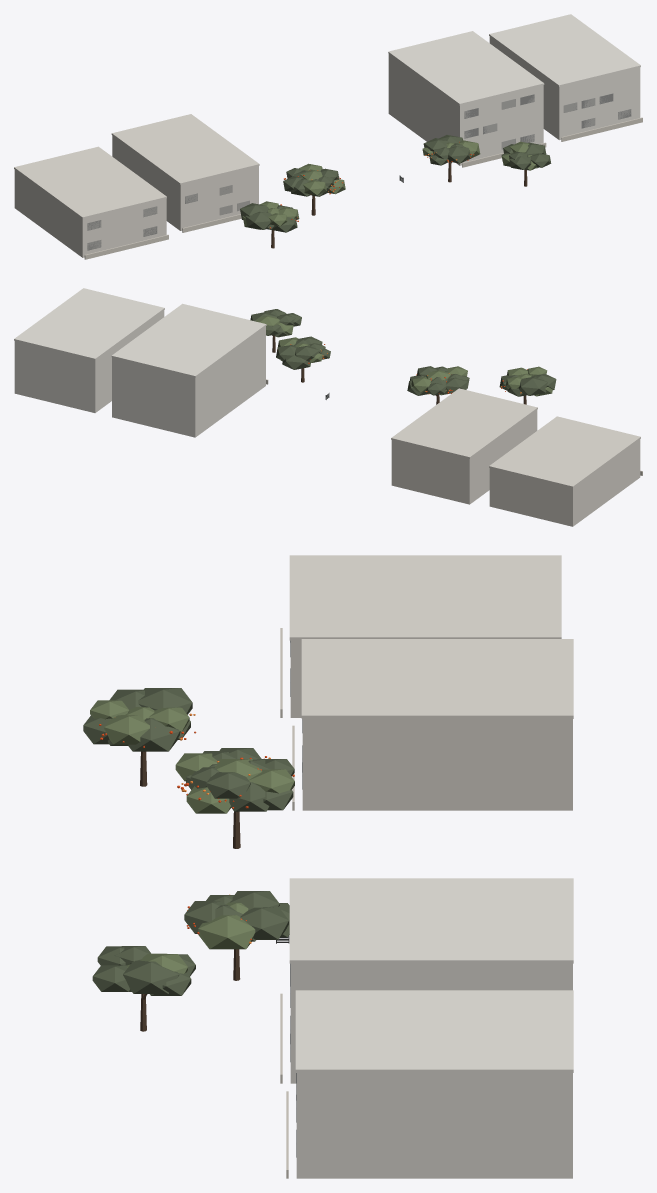
File: site.glb
3 renders of one model, top to bottom at view 1: azimuth 30°, elevation 25°; view 2: azimuth 150°, elevation 25°; view 3: azimuth 270°, elevation 25°, orthographic. The views are drawn at different scales.
Parts seen in each view (by area): view 1: Neighbour Plaster A, Neighbour Plaster A_high, Neighbour Plaster B_high, Neighbour Plaster B, Foliage #59634D_high, Foliage #6F7D5A_high, Neighbour Wall, Neighbour Glass_high, Neighbour Glass; view 2: Neighbour Plaster A, Neighbour Plaster A_high, Neighbour Plaster B, Neighbour Plaster B_high, Foliage #59634D_high, Foliage #6F7D5A_high; view 3: Neighbour Plaster A_high, Neighbour Plaster B_high, Neighbour Plaster A, Neighbour Plaster B, Foliage #59634D_high, Foliage #6F7D5A_high, Neighbour Wall, Bark.003.
Boxes of the visible parts, x1,y1,x2,y2 form: Neighbour Plaster A: (388,36,640,165); Neighbour Plaster A_high: (388,14,640,105); Neighbour Plaster B_high: (14,114,259,218); Neighbour Plaster B: (14,135,258,257); Foliage #59634D_high: (240,135,551,232); Foliage #6F7D5A_high: (242,140,536,229); Neighbour Wall: (84,117,642,259); Neighbour Glass_high: (87,93,613,230); Neighbour Glass: (87,109,631,250); Neighbour Plaster A: (14,310,265,437); Neighbour Plaster A_high: (14,288,266,377); Neighbour Plaster B: (391,410,640,526); Neighbour Plaster B_high: (391,388,640,487); Foliage #59634D_high: (250,309,556,396); Foliage #6F7D5A_high: (256,315,552,396); Neighbour Plaster A_high: (289,878,573,1072); Neighbour Plaster B_high: (289,555,573,718); Neighbour Plaster A: (290,963,572,1178); Neighbour Plaster B: (290,640,572,810); Foliage #59634D_high: (83,688,294,995); Foliage #6F7D5A_high: (90,700,294,991); Neighbour Wall: (280,628,294,1178); Bark.003: (140,751,240,1031).
Size of the model in its own units: 42.76 by 4.54 by 16.34.
